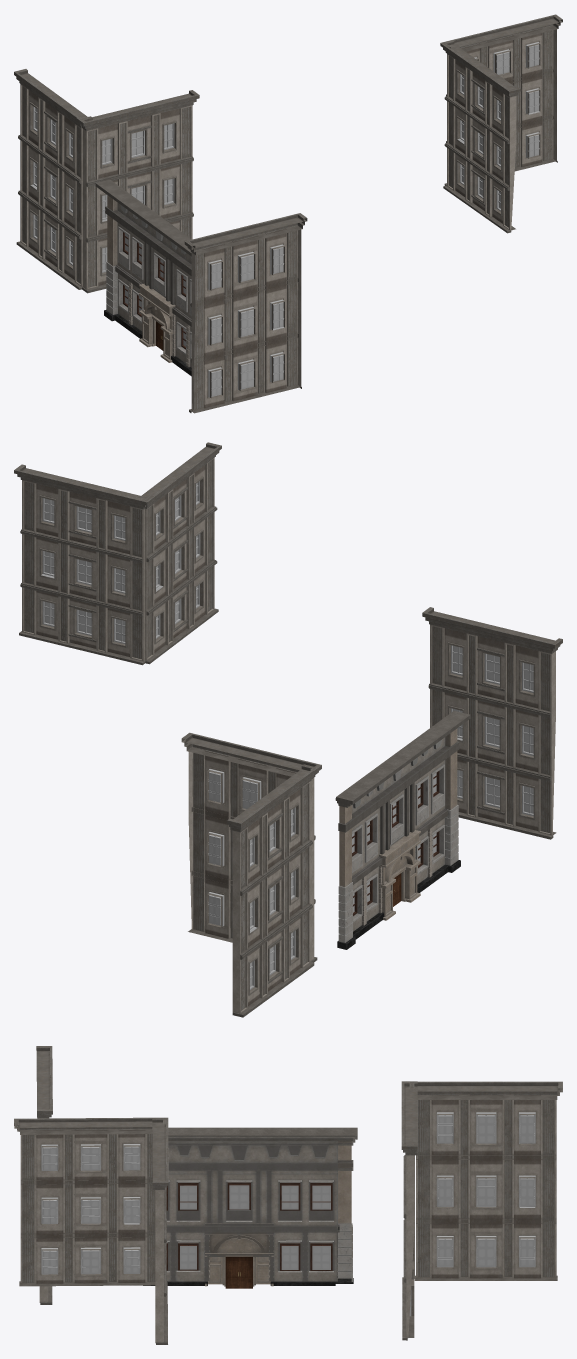
The model's file is buildings.glb.
3 renders of one model, top to bottom at view 1: azimuth 30°, elevation 25°; view 2: azimuth 150°, elevation 25°; view 3: azimuth 270°, elevation 25°, orthographic. The views are drawn at different scales.
Parts seen in each view (by area): view 1: Building_1_Building_1_0.001, Building_1_Building_1_0.006, Buidling_2, Building_1_Building_1_0.004, Building_1_Building_1_0.003, Building_1_Building_1_0.002; view 2: Building_1_Building_1_0.001, Building_1_Building_1_0.002, Buidling_2, Building_1_Building_1_0.004, Building_1_Building_1_0.006, Building_1_Building_1_0.003; view 3: Buidling_2, Building_1_Building_1_0.004, Building_1_Building_1_0.003, Building_1_Building_1_0.006, Building_1_Building_1_0.002, Building_1_Building_1_0.001.
Boxes of the visible parts, x1,y1,x2,y2 form: Building_1_Building_1_0.001: [184, 213, 307, 413]; Building_1_Building_1_0.006: [76, 90, 199, 293]; Buidling_2: [95, 179, 191, 376]; Building_1_Building_1_0.004: [14, 69, 92, 289]; Building_1_Building_1_0.003: [440, 41, 521, 233]; Building_1_Building_1_0.002: [440, 14, 562, 185]; Building_1_Building_1_0.001: [422, 607, 562, 839]; Building_1_Building_1_0.002: [14, 464, 154, 665]; Buidling_2: [335, 710, 470, 949]; Building_1_Building_1_0.004: [227, 764, 316, 1017]; Building_1_Building_1_0.006: [181, 732, 321, 962]; Building_1_Building_1_0.003: [135, 442, 221, 664]; Buidling_2: [143, 1127, 357, 1288]; Building_1_Building_1_0.004: [409, 1081, 562, 1280]; Building_1_Building_1_0.003: [14, 1117, 165, 1286]; Building_1_Building_1_0.006: [401, 1081, 417, 1340]; Building_1_Building_1_0.002: [152, 1117, 168, 1344]; Building_1_Building_1_0.001: [36, 1046, 52, 1304].
Size of the model in its own units: 65.77 by 40.16 by 64.59.
2 materials, 2 textured.
